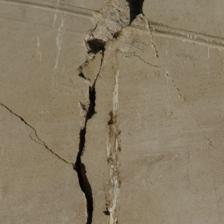Crack: (24, 58, 103, 209), (0, 29, 94, 145), (113, 83, 155, 224), (39, 13, 107, 43)
